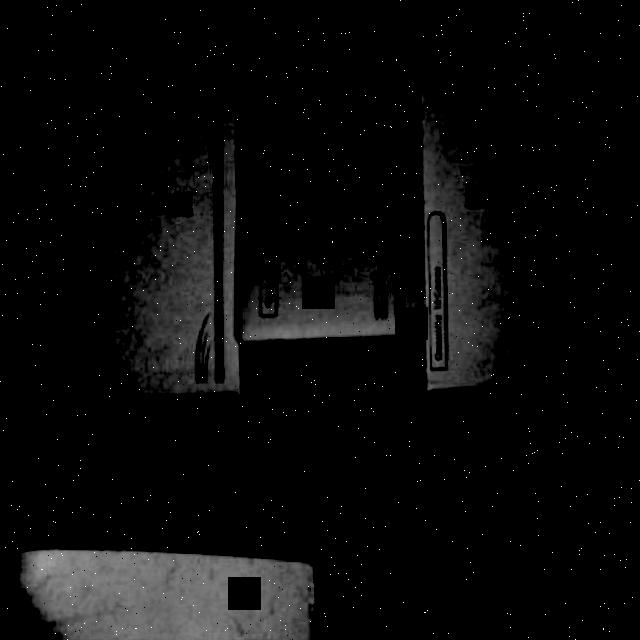box: (45, 2, 248, 410), (420, 10, 610, 392), (237, 2, 428, 346)
